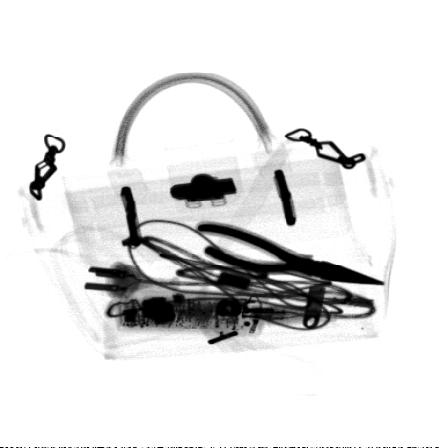Pliers: (194, 220, 388, 286)
